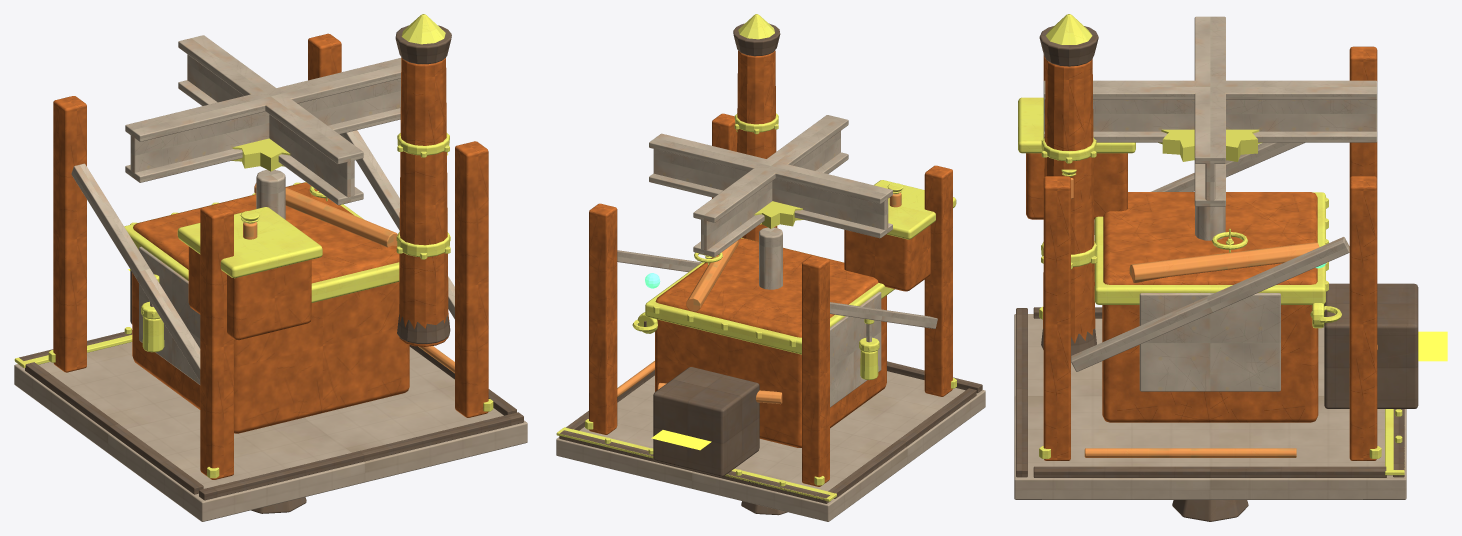
The model's file is ff-burner-drill.glb.
3 views of the same model, side by side, from view 1: azimuth 30°, elevation 25°; view 2: azimuth 150°, elevation 25°; view 3: azimuth 270°, elevation 25° (orthographic). The views are drawn at different scales.
Parts seen in each view (by area): view 1: Post, Pad, TopWeb, Bolt, PadLipN, Brace, PadPipe, Rotor, DriveGearHub; view 2: Post, Pad, TopWeb, PadLipN, Bolt, Brace, PadPipe, DriveGearHub, Rotor, GlowFire; view 3: Post, Pad, TopWeb, Brace, PadLipN, Bolt, PadPipe, Bit, Rotor, GlowFire, DriveGearHub.
Part boxes in pixels (left/top/right/bottom): Post: left=53, top=33, right=488, bottom=479; Pad: left=14, top=342, right=527, bottom=521; TopWeb: left=125, top=35, right=401, bottom=205; Bolt: left=48, top=14, right=493, bottom=478; PadLipN: left=19, top=25, right=523, bottom=500; Brace: left=71, top=130, right=454, bottom=384; PadPipe: left=243, top=183, right=454, bottom=373; Rotor: left=256, top=170, right=285, bottom=219; DriveGearHub: left=14, top=301, right=160, bottom=367; Post: left=589, top=50, right=952, bottom=486; Pad: left=556, top=371, right=985, bottom=521; TopWeb: left=649, top=115, right=892, bottom=256; PadLipN: left=559, top=23, right=982, bottom=503; Bolt: left=585, top=14, right=956, bottom=486; Brace: left=617, top=250, right=937, bottom=407; PadPipe: left=617, top=192, right=901, bottom=404; DriveGearHub: left=556, top=255, right=879, bottom=501; Rotor: left=759, top=227, right=782, bottom=289; GlowFire: left=651, top=430, right=711, bottom=450; Post: left=1026, top=46, right=1377, bottom=460; Pad: left=1014, top=314, right=1406, bottom=499; TopWeb: left=1043, top=16, right=1377, bottom=206; Brace: left=1071, top=142, right=1349, bottom=391; PadLipN: left=1016, top=26, right=1418, bottom=477; Bolt: left=1018, top=14, right=1402, bottom=458; PadPipe: left=1071, top=178, right=1377, bottom=457; Bit: left=1172, top=500, right=1248, bottom=521; Rotor: left=1195, top=206, right=1225, bottom=240; GlowFire: left=1418, top=331, right=1447, bottom=361; DriveGearHub: left=1227, top=238, right=1404, bottom=475.
Bounding box in the file's own units: 2 × 3.01 × 2.21.
12 materials, 9 textured.
